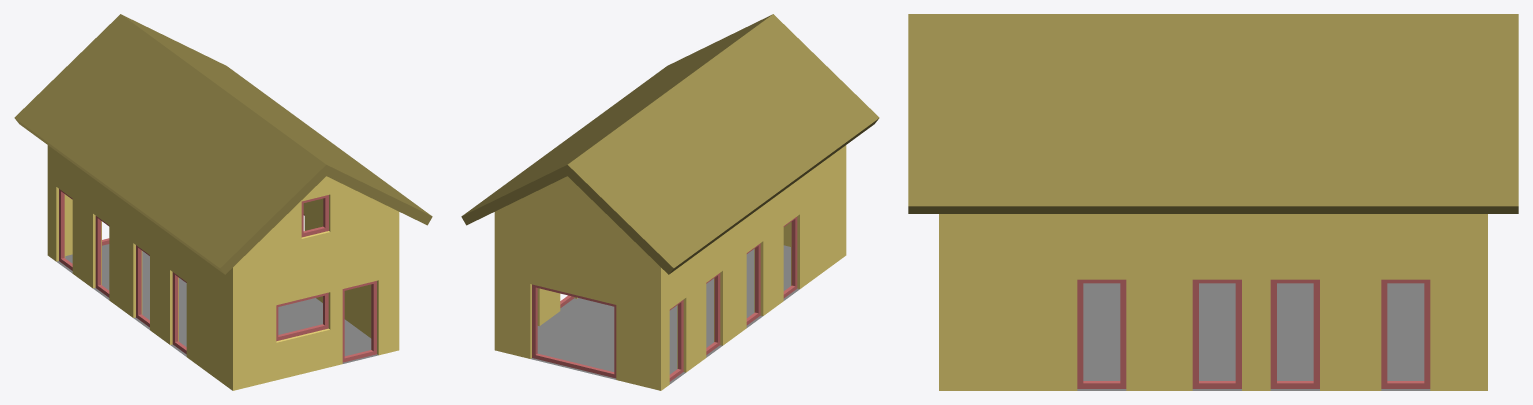
Rendered from result.glb.
3 views of the same model, side by side, from view 1: azimuth 30°, elevation 25°; view 2: azimuth 150°, elevation 25°; view 3: azimuth 270°, elevation 25° (orthographic). The views are drawn at different scales.
Parts seen in each view (by area): view 1: 6cf764d1-b4a4-4a72-8131-345787958865__undefined (×2), 67bedb2b-e799-4003-b945-5788a12f42e8__undefined, a4f39bba-7ba9-420d-9a80-0b3ca6b262bd__Plane_20, 9edc197f-e340-4b53-bde2-0d637952ca95__Box, fa981f2c-fde5-40c7-a22e-f0588fad47d1__Box_3, 955d81ef-2a2e-457a-8ac9-79a6282e6eae__Box_12, 1e54869e-7e5e-4eec-9c58-82120f925874__Box_18, 00abdebb-fa15-4c4b-85da-0fe5f1f08685__Box_21, ea2cc81e-f5c4-4504-be26-853460f865ca__Box_15, 1aa3c538-a151-4545-9473-99142ff79106__Box_6; view 2: 6cf764d1-b4a4-4a72-8131-345787958865__undefined (×2), 67bedb2b-e799-4003-b945-5788a12f42e8__undefined, a4f39bba-7ba9-420d-9a80-0b3ca6b262bd__Plane_20, 031afb19-9eec-48d4-8525-23ba60e8a1de__Box_9, 955d81ef-2a2e-457a-8ac9-79a6282e6eae__Box_12, 1e54869e-7e5e-4eec-9c58-82120f925874__Box_18, ea2cc81e-f5c4-4504-be26-853460f865ca__Box_15, 00abdebb-fa15-4c4b-85da-0fe5f1f08685__Box_21; view 3: 6cf764d1-b4a4-4a72-8131-345787958865__undefined, 67bedb2b-e799-4003-b945-5788a12f42e8__undefined, a4f39bba-7ba9-420d-9a80-0b3ca6b262bd__Plane_20, 26ca62f5-46ad-40e5-90d0-943fe2b4b464__Box_36, 37f9cde3-3224-4f66-8991-190c13108bab__Box_39, b47665cf-fcc8-42db-bf39-8275db7343e3__Box_42, 71919fd8-0dd8-4533-b127-a406286107d6__Box_45.
Part boxes in pixels (x1,y1,x2,y2): 6cf764d1-b4a4-4a72-8131-345787958865__undefined (×2): [14, 14, 432, 274]; 67bedb2b-e799-4003-b945-5788a12f42e8__undefined: [47, 145, 399, 390]; a4f39bba-7ba9-420d-9a80-0b3ca6b262bd__Plane_20: [56, 244, 378, 363]; 9edc197f-e340-4b53-bde2-0d637952ca95__Box: [342, 281, 376, 362]; fa981f2c-fde5-40c7-a22e-f0588fad47d1__Box_3: [276, 292, 328, 341]; 955d81ef-2a2e-457a-8ac9-79a6282e6eae__Box_12: [172, 272, 186, 354]; 1e54869e-7e5e-4eec-9c58-82120f925874__Box_18: [95, 216, 109, 297]; 00abdebb-fa15-4c4b-85da-0fe5f1f08685__Box_21: [59, 189, 72, 270]; ea2cc81e-f5c4-4504-be26-853460f865ca__Box_15: [136, 245, 149, 327]; 1aa3c538-a151-4545-9473-99142ff79106__Box_6: [301, 195, 328, 237]; 6cf764d1-b4a4-4a72-8131-345787958865__undefined (×2): [461, 14, 879, 274]; 67bedb2b-e799-4003-b945-5788a12f42e8__undefined: [494, 145, 846, 390]; a4f39bba-7ba9-420d-9a80-0b3ca6b262bd__Plane_20: [531, 245, 799, 384]; 031afb19-9eec-48d4-8525-23ba60e8a1de__Box_9: [532, 284, 616, 378]; 955d81ef-2a2e-457a-8ac9-79a6282e6eae__Box_12: [783, 216, 797, 298]; 1e54869e-7e5e-4eec-9c58-82120f925874__Box_18: [706, 273, 720, 354]; ea2cc81e-f5c4-4504-be26-853460f865ca__Box_15: [746, 243, 760, 325]; 00abdebb-fa15-4c4b-85da-0fe5f1f08685__Box_21: [669, 299, 683, 381]; 6cf764d1-b4a4-4a72-8131-345787958865__undefined: [908, 14, 1518, 213]; 67bedb2b-e799-4003-b945-5788a12f42e8__undefined: [939, 214, 1487, 390]; a4f39bba-7ba9-420d-9a80-0b3ca6b262bd__Plane_20: [1077, 283, 1430, 390]; 26ca62f5-46ad-40e5-90d0-943fe2b4b464__Box_36: [1077, 279, 1126, 388]; 37f9cde3-3224-4f66-8991-190c13108bab__Box_39: [1192, 279, 1241, 388]; b47665cf-fcc8-42db-bf39-8275db7343e3__Box_42: [1270, 279, 1319, 388]; 71919fd8-0dd8-4533-b127-a406286107d6__Box_45: [1381, 279, 1430, 388].
Size of the model in its own units: 593 by 569 by 994.
